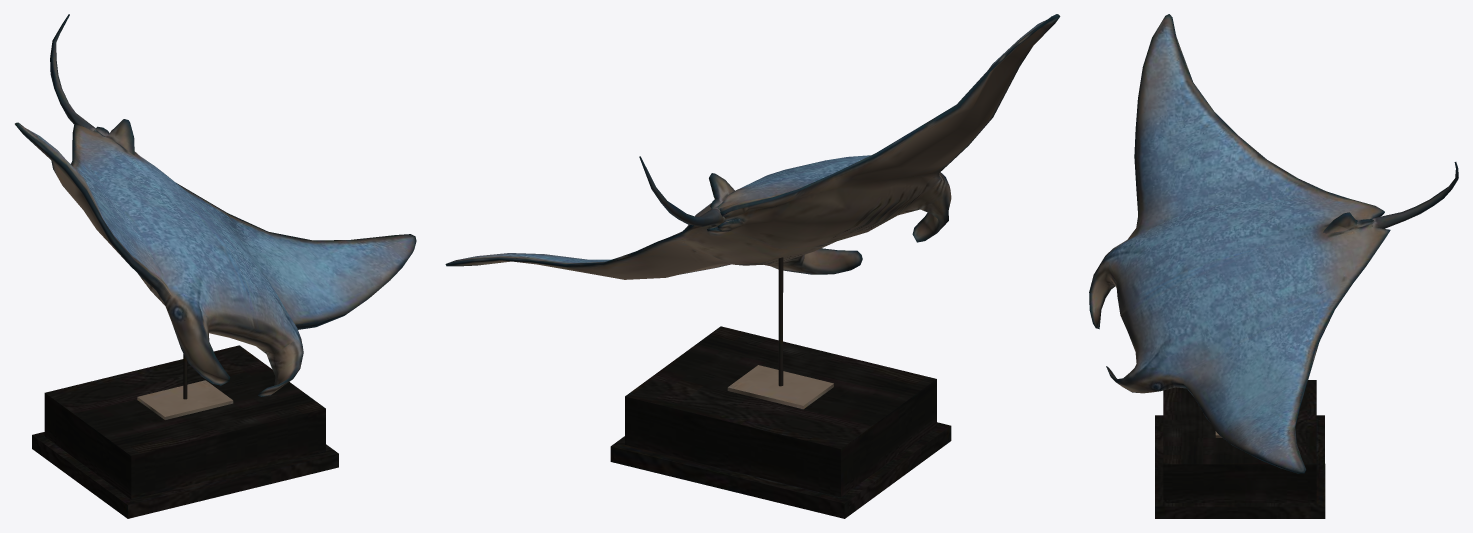
The model's file is bronze_ray.glb.
3 views of the same model, side by side, from view 1: azimuth 30°, elevation 25°; view 2: azimuth 150°, elevation 25°; view 3: azimuth 270°, elevation 25° (orthographic). The views are drawn at different scales.
Parts seen in each view (by area): view 1: bronze_ray_statue; view 2: bronze_ray_statue; view 3: bronze_ray_statue.
Part boxes in pixels (x1,y1,x2,y2): bronze_ray_statue: (15,14,416,518); bronze_ray_statue: (445,14,1060,518); bronze_ray_statue: (1089,14,1458,518).
Bounding box in the file's own units: 0.7075 × 0.5897 × 0.5355.
1 material, 1 textured.
